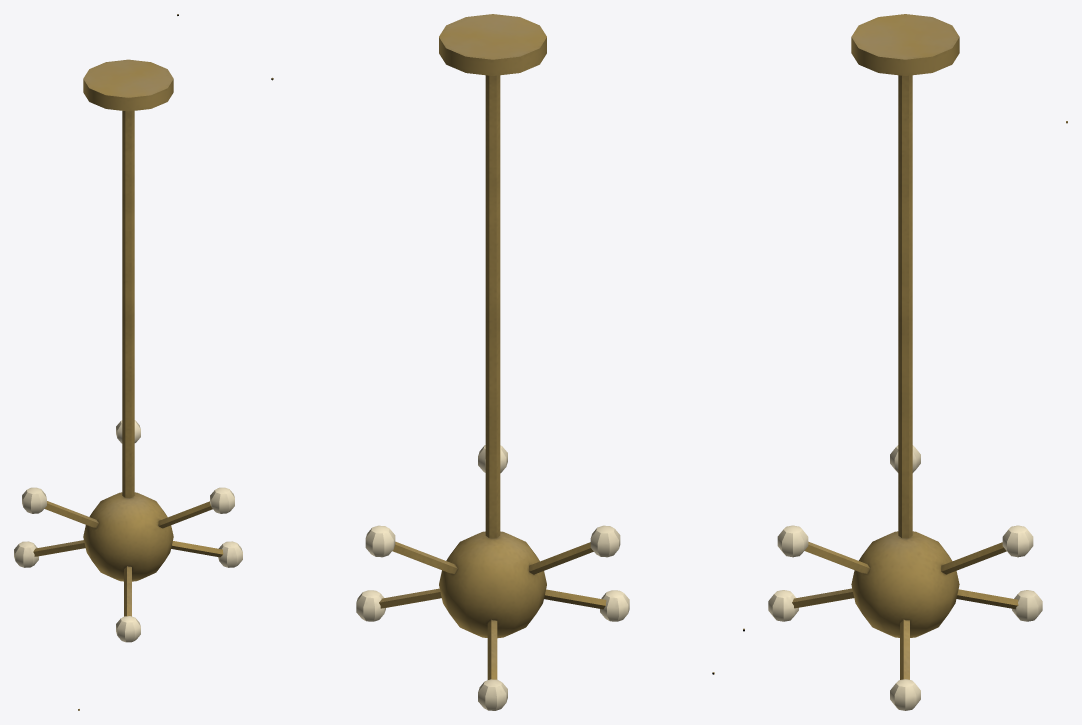
File: H_PendantLamp_Sputnik.fbx
3 views of the same model, side by side, from view 1: azimuth 30°, elevation 25°; view 2: azimuth 150°, elevation 25°; view 3: azimuth 270°, elevation 25° (orthographic). The views are drawn at different scales.
Parts seen in each view (by area): view 1: H_PendantLamp_Sputnik__H_PendantSputnik, H_PendantLamp_Sputnik__H_PendantSputnik_Bulbs; view 2: H_PendantLamp_Sputnik__H_PendantSputnik, H_PendantLamp_Sputnik__H_PendantSputnik_Bulbs; view 3: H_PendantLamp_Sputnik__H_PendantSputnik, H_PendantLamp_Sputnik__H_PendantSputnik_Bulbs.
Boxes of the visible parts, left/top/right/bottom form: H_PendantLamp_Sputnik__H_PendantSputnik: left=33, top=14, right=223, bottom=710; H_PendantLamp_Sputnik__H_PendantSputnik_Bulbs: left=14, top=420, right=242, bottom=642; H_PendantLamp_Sputnik__H_PendantSputnik: left=271, top=14, right=714, bottom=679; H_PendantLamp_Sputnik__H_PendantSputnik_Bulbs: left=356, top=445, right=629, bottom=710; H_PendantLamp_Sputnik__H_PendantSputnik: left=743, top=14, right=1067, bottom=679; H_PendantLamp_Sputnik__H_PendantSputnik_Bulbs: left=768, top=445, right=1042, bottom=710.
Size of the model in its own units: 180 by 405 by 180.
1 material, 1 textured.
